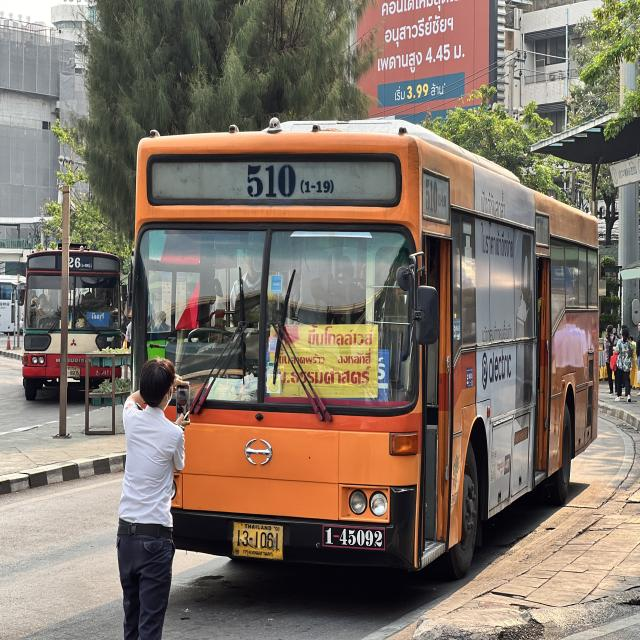BMTA-bus: (115, 120, 602, 640), (21, 250, 132, 406)
Bus-Line-Number: (242, 161, 336, 200), (66, 255, 94, 269)
Destination-Sign-Normal: (86, 312, 111, 326)
Destination-Sign-Normal-Expressway: (266, 324, 379, 398)
